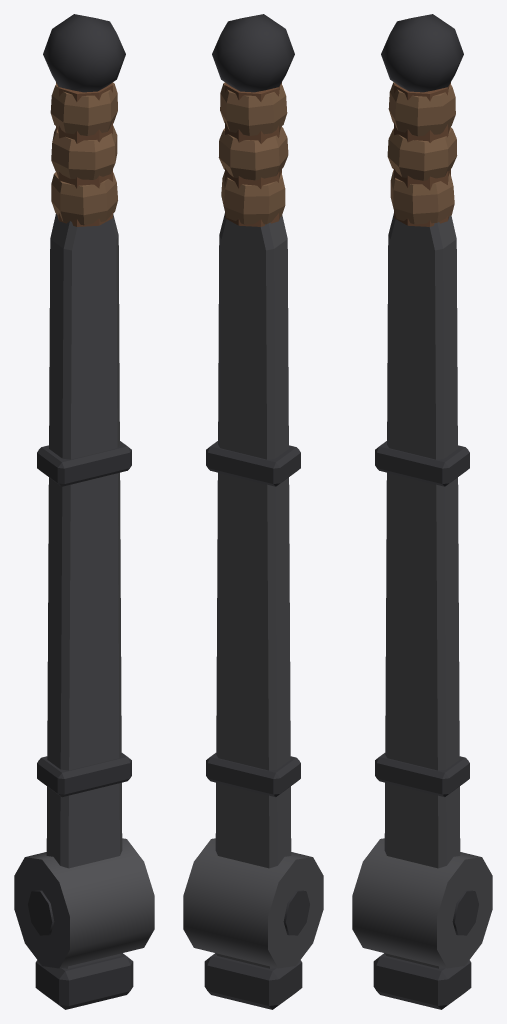
The model's file is lever.glb.
The picture shows the model from 3 angles, left to right: view 1: azimuth 30°, elevation 25°; view 2: azimuth 150°, elevation 25°; view 3: azimuth 330°, elevation 25°; orthographic projection.
Parts seen in each view (by area): view 1: lever; view 2: lever; view 3: lever.
Part boxes in pixels (<box>): lever: <box>14,14,154,1009</box>; lever: <box>183,14,323,1009</box>; lever: <box>352,14,492,1009</box>.
Bounding box in the file's own units: 0.084 × 0.8815 × 0.0913.
